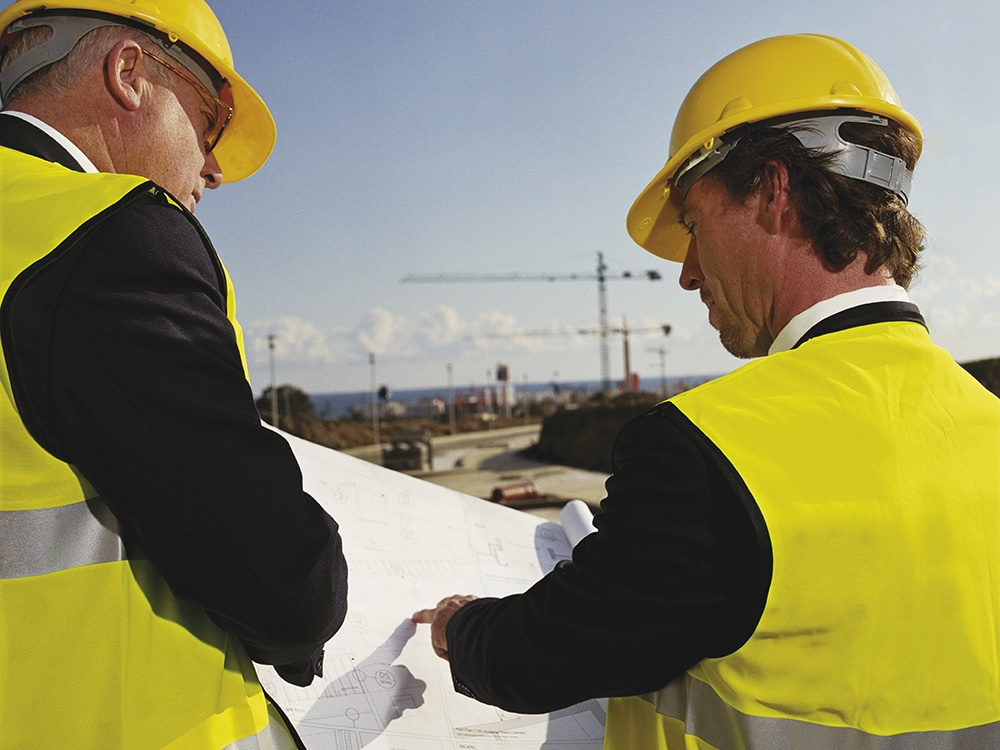Hard Hat: (619, 29, 928, 263), (1, 1, 276, 189)
High Viz: (603, 323, 998, 740), (1, 197, 265, 691)
